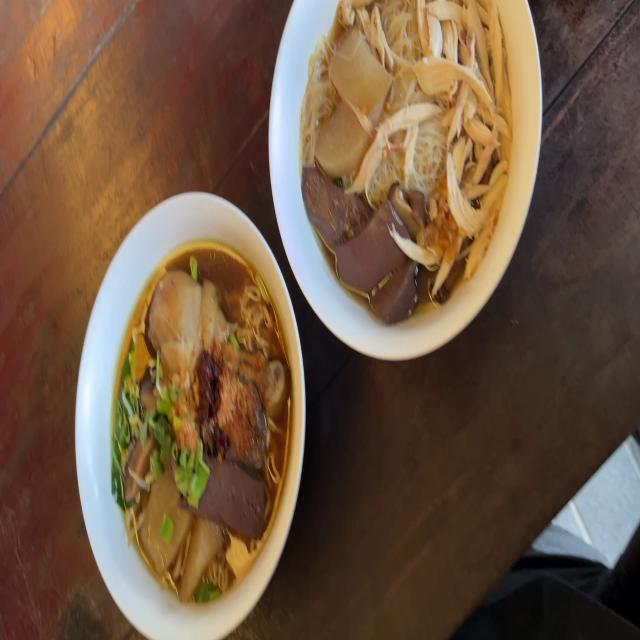boiled_chicken_blood_jelly: (343, 201, 401, 278), (202, 458, 264, 529), (303, 181, 360, 243), (376, 262, 418, 325)
chicken_drumstick: (148, 277, 284, 415)
chicken_shredded: (431, 0, 511, 261)
daikon_radish: (330, 28, 390, 122), (313, 99, 367, 174), (144, 477, 184, 564), (184, 518, 220, 596)
noodle: (300, 0, 514, 316), (110, 242, 298, 597)
